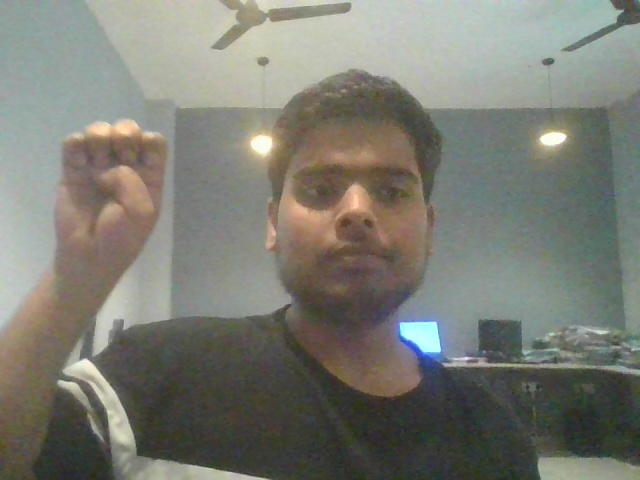E: (28, 96, 199, 290)
